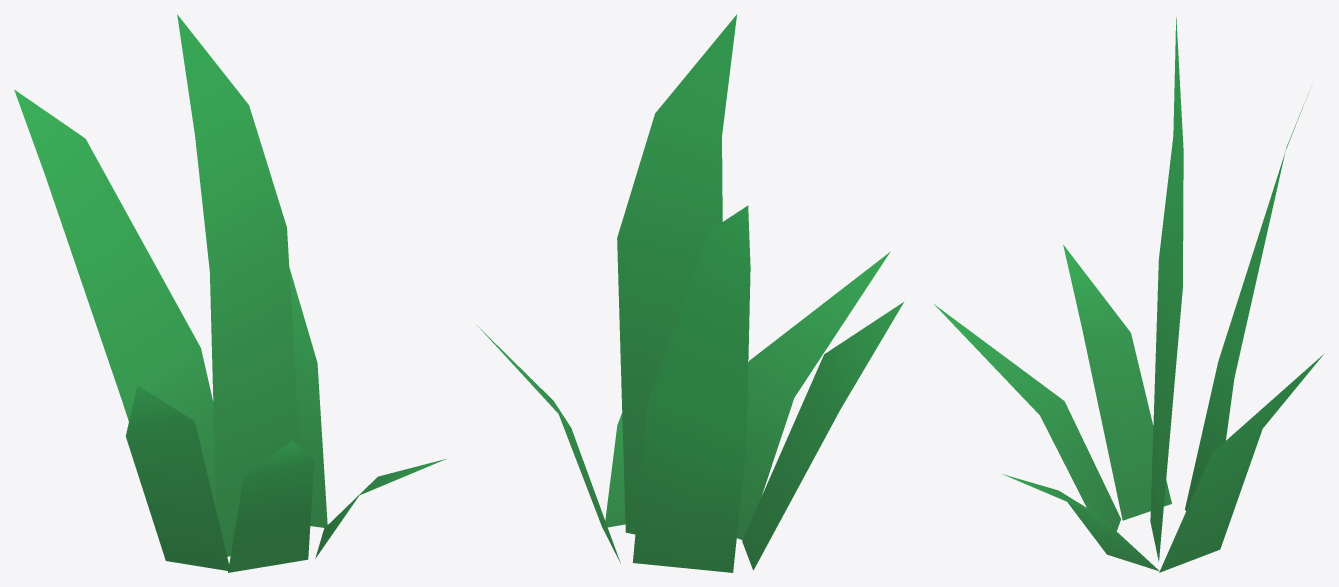
Rendered from Forest_Grass_03.gltf.
3 views of the same model, side by side, from view 1: azimuth 30°, elevation 25°; view 2: azimuth 150°, elevation 25°; view 3: azimuth 270°, elevation 25° (orthographic). The views are drawn at different scales.
Visible parts, largest first — view 1: Forest_Grass_03; view 2: Forest_Grass_03; view 3: Forest_Grass_03.
Part boxes in pixels (<box>): Forest_Grass_03: <box>14,14,446,572</box>; Forest_Grass_03: <box>477,14,904,572</box>; Forest_Grass_03: <box>934,17,1324,572</box>.
Size of the model in its own units: 0.1335 by 0.2499 by 0.1789.
1 material, 1 textured.
